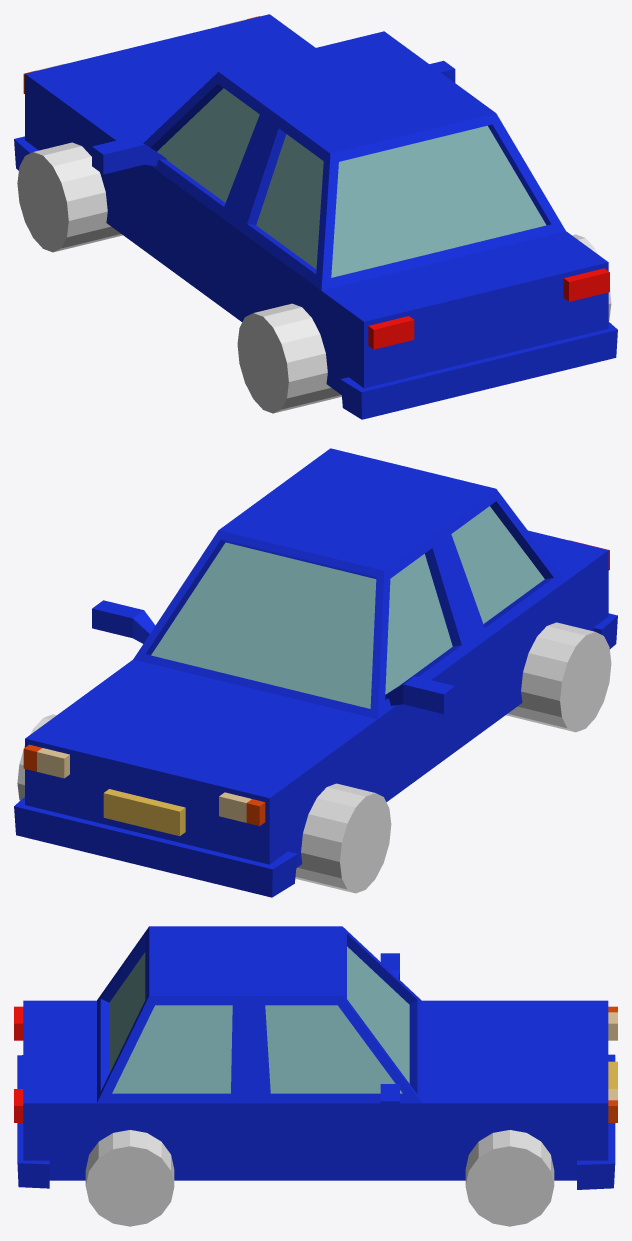
The model's file is Car.fbx.
3 renders of one model, top to bottom at view 1: azimuth 30°, elevation 25°; view 2: azimuth 150°, elevation 25°; view 3: azimuth 270°, elevation 25°, orthographic. The views are drawn at different scales.
Visible parts, largest first — view 1: Cube, Cylinder.002, Cylinder, Cube.005, Cube.003; view 2: Cube, Cylinder, Cylinder.002, Cube.003, Cube.004, Cube.002; view 3: Cube, Cylinder, Cylinder.002, Cube.003, Cube.002, Cube.005.
Boxes of the visible parts, x1,y1,x2,y2 form: Cube: (14, 14, 617, 419); Cylinder.002: (237, 234, 611, 413); Cylinder: (17, 142, 122, 252); Cube.005: (368, 268, 609, 349); Cube.003: (92, 60, 455, 174); Cube: (14, 448, 617, 897); Cylinder: (17, 714, 391, 893); Cylinder.002: (506, 622, 611, 732); Cube.003: (92, 600, 455, 713); Cube.004: (103, 789, 185, 836); Cube.002: (23, 744, 265, 825); Cube: (17, 926, 615, 1189); Cylinder: (465, 1130, 554, 1226); Cylinder.002: (85, 1130, 174, 1226); Cube.003: (380, 953, 399, 1118); Cube.002: (608, 1006, 617, 1122); Cube.005: (14, 1006, 23, 1122).
Size of the model in its own units: 288 by 179 by 496.
